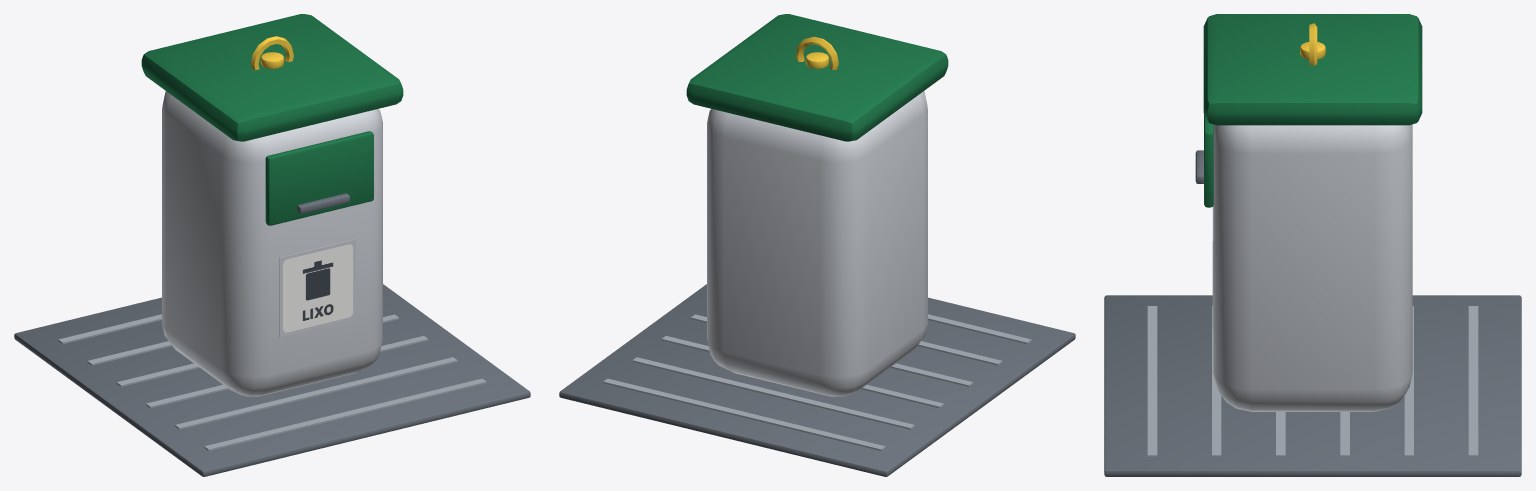
File: lixeira_subterranea.glb
The picture shows the model from 3 angles, left to right: view 1: azimuth 30°, elevation 25°; view 2: azimuth 150°, elevation 25°; view 3: azimuth 270°, elevation 25°; orthographic projection. The views are drawn at different scales.
Parts seen in each view (by area): view 1: lixeira_subterranea, aba; view 2: lixeira_subterranea; view 3: lixeira_subterranea, aba.
Part boxes in pixels (x1,y1,x2,y2): lixeira_subterranea: (14,14,530,476); aba: (265,131,373,225); lixeira_subterranea: (559,14,1075,476); lixeira_subterranea: (1104,14,1521,476); aba: (1195,114,1213,207).
Size of the model in its own units: 1.3 by 1.25 by 1.3.
Materials: 2 (2 with a texture image).
